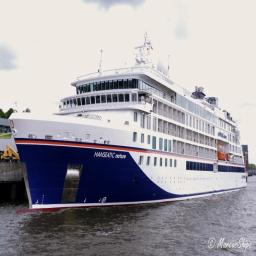cruises: (8, 43, 250, 220)
